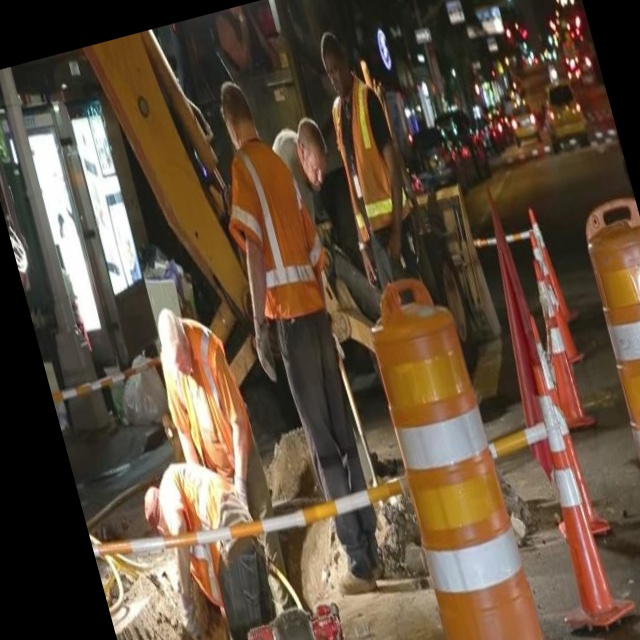Con_Chaleco: (219, 132, 330, 324), (320, 80, 409, 238)
Sin_Casco_Mascarrilla: (290, 112, 335, 193), (213, 75, 257, 146)
